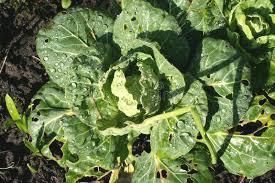Bok-Choy-Diseased: (34, 10, 114, 91), (58, 81, 121, 131)
